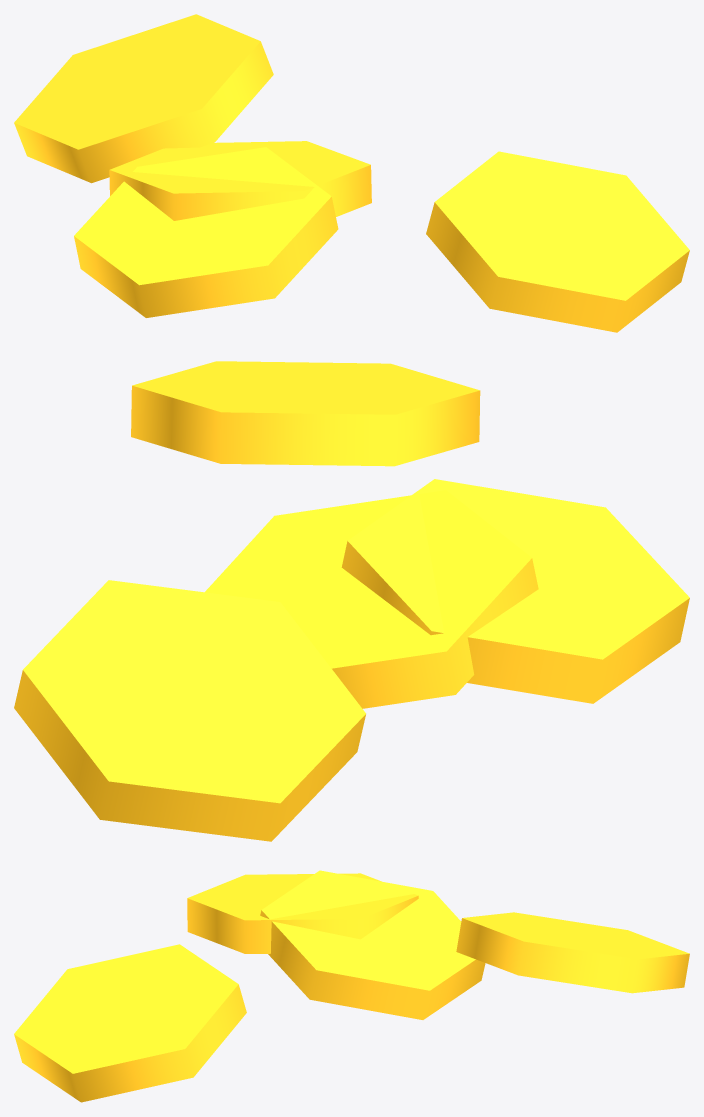
The model's file is drop_gold.glb.
3 renders of one model, top to bottom at view 1: azimuth 30°, elevation 25°; view 2: azimuth 150°, elevation 25°; view 3: azimuth 270°, elevation 25°, orthographic. The views are drawn at different scales.
Parts seen in each view (by area): view 1: item_gold; view 2: item_gold; view 3: item_gold.
Boxes of the visible parts, box(x1,y1,x2,y2) form: item_gold: box(14, 14, 689, 332); item_gold: box(14, 361, 689, 841); item_gold: box(14, 870, 689, 1102).
Size of the model in its own units: 0.2079 by 0.0493 by 0.3038.
